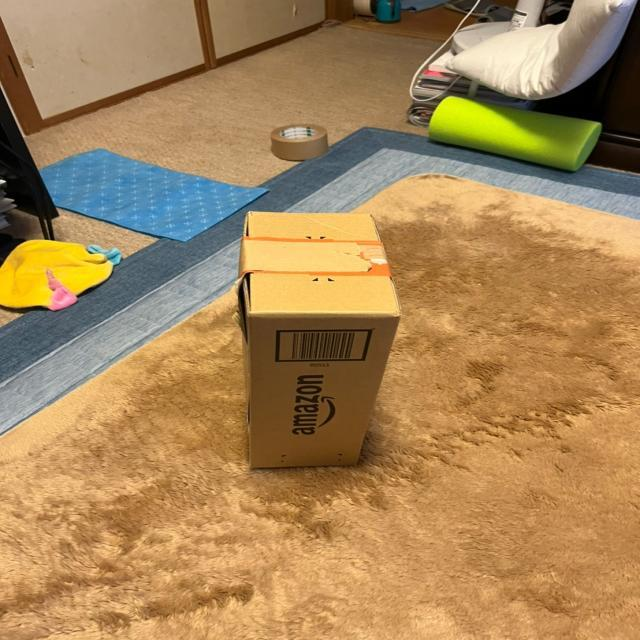-: (228, 205, 405, 476)
